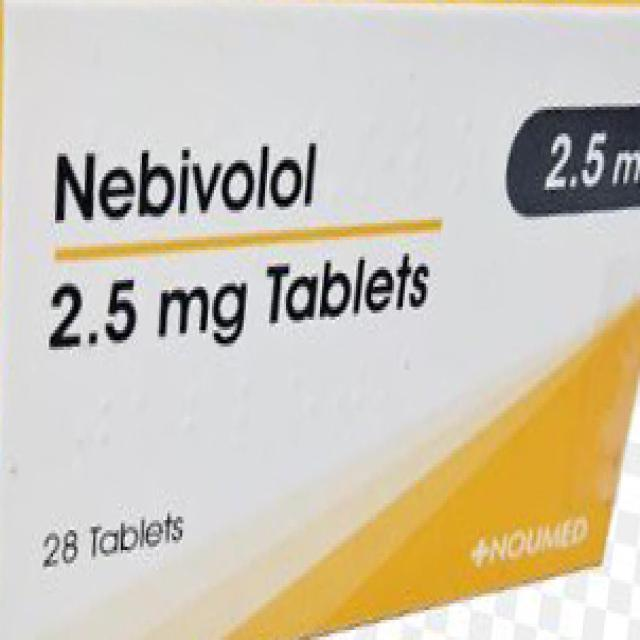drug-name: (51, 132, 327, 232)
